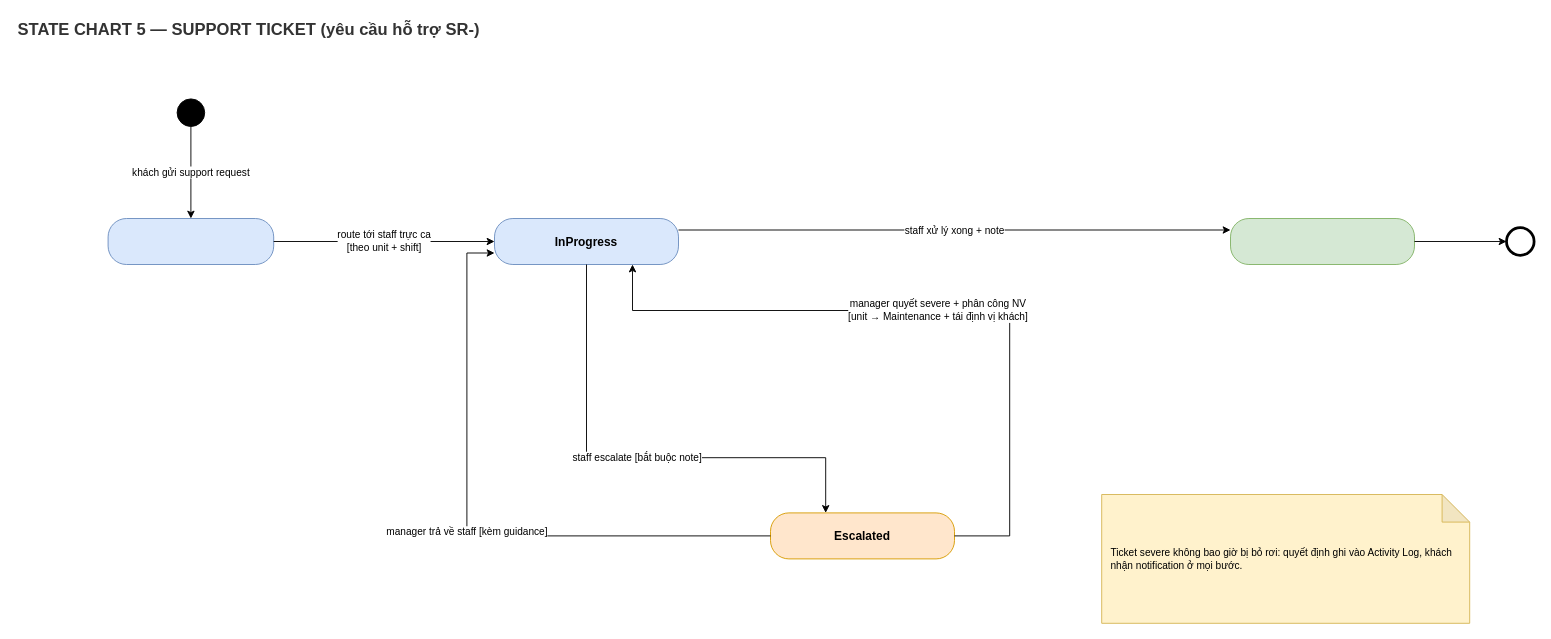
Image size: 1551x639. Some labels were removed from this diagram. The centre of each missing label's shape, as x and y in pixels:
Open: (x=190, y=241)
Resolved: (x=1322, y=241)
